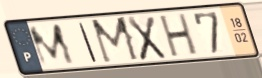7: (191, 10, 221, 56)
H: (158, 11, 200, 59)
I: (77, 21, 99, 64)
M: (88, 15, 143, 66), (26, 21, 78, 69)
X: (125, 15, 169, 63)
